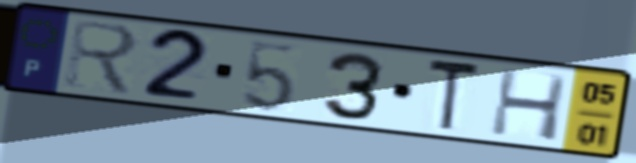2: (134, 27, 218, 106)
3: (321, 50, 388, 123)
5: (239, 37, 300, 114)
H: (486, 66, 572, 144)
R: (61, 16, 143, 99)
T: (425, 55, 484, 135)
